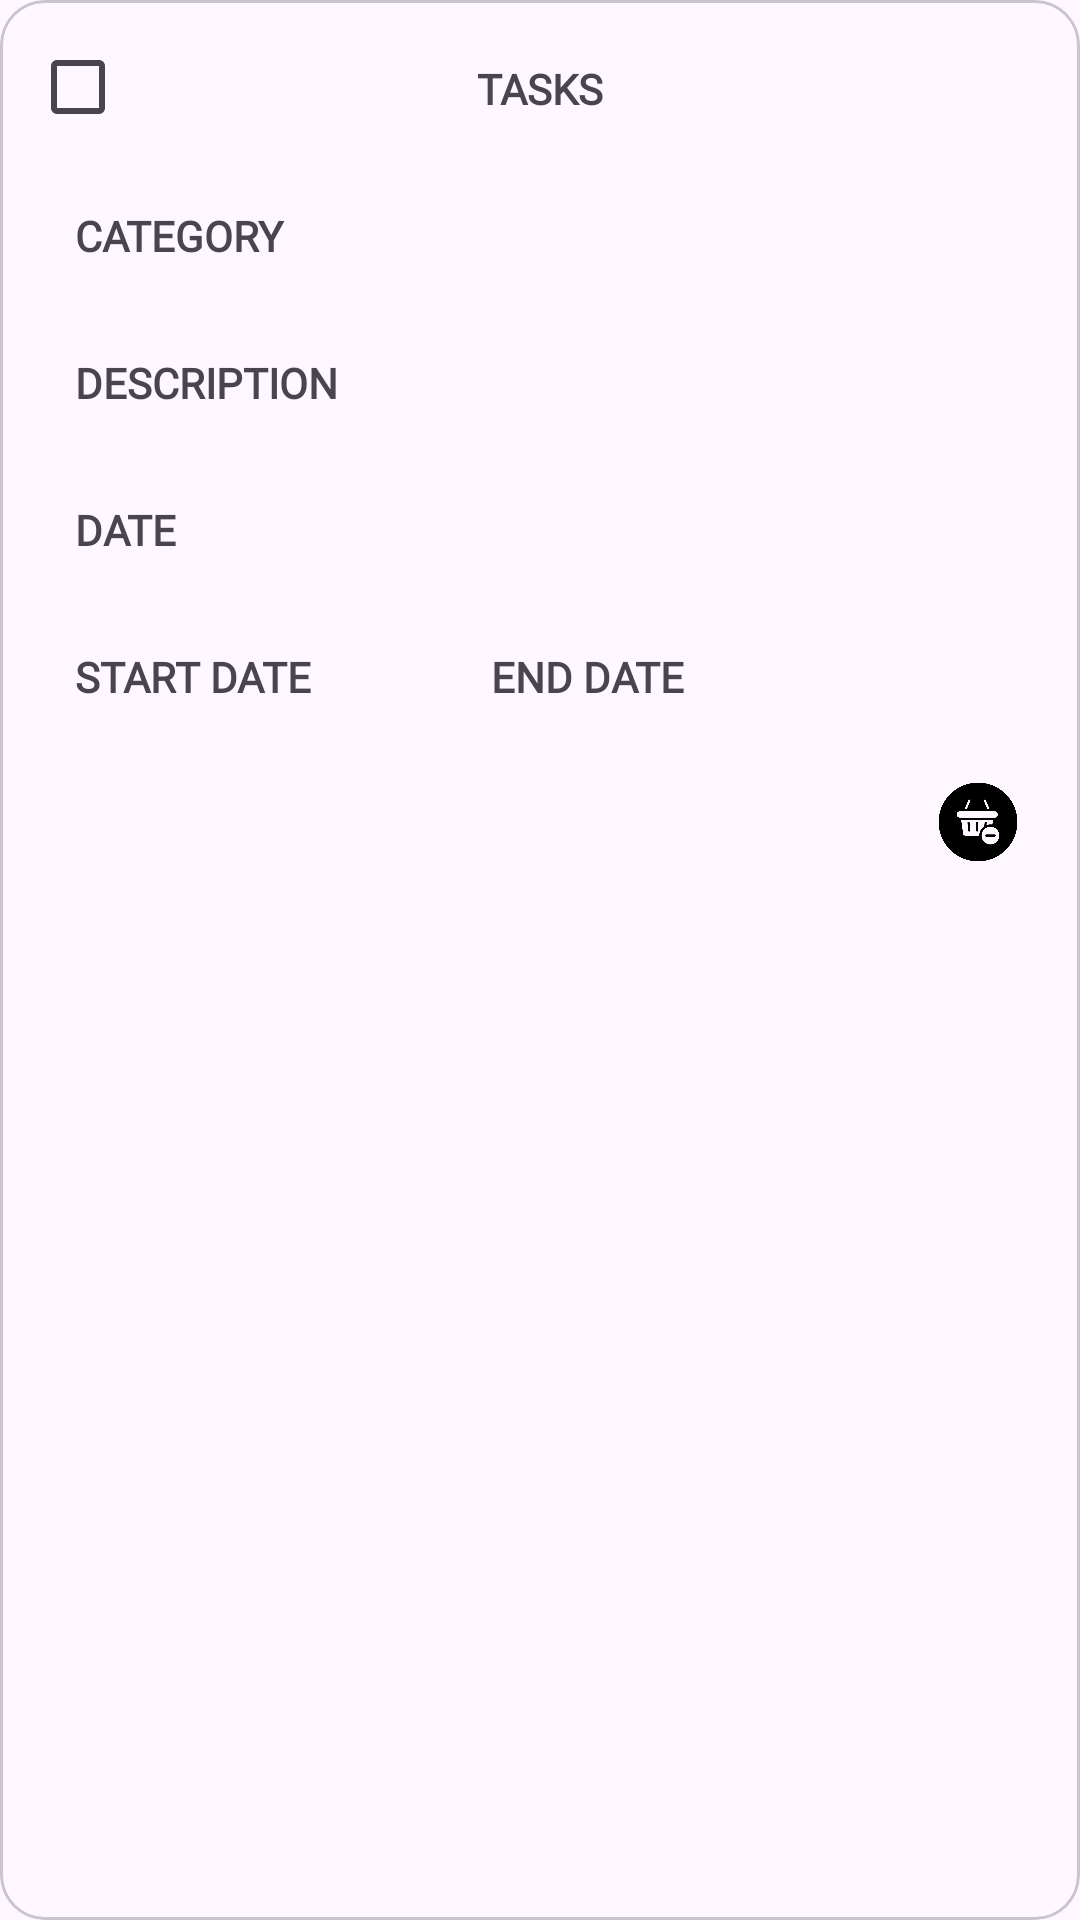

Named icons in this screenshot (1080w x 1920h) and their centers, point (x, y):
delete: point (978, 822)
